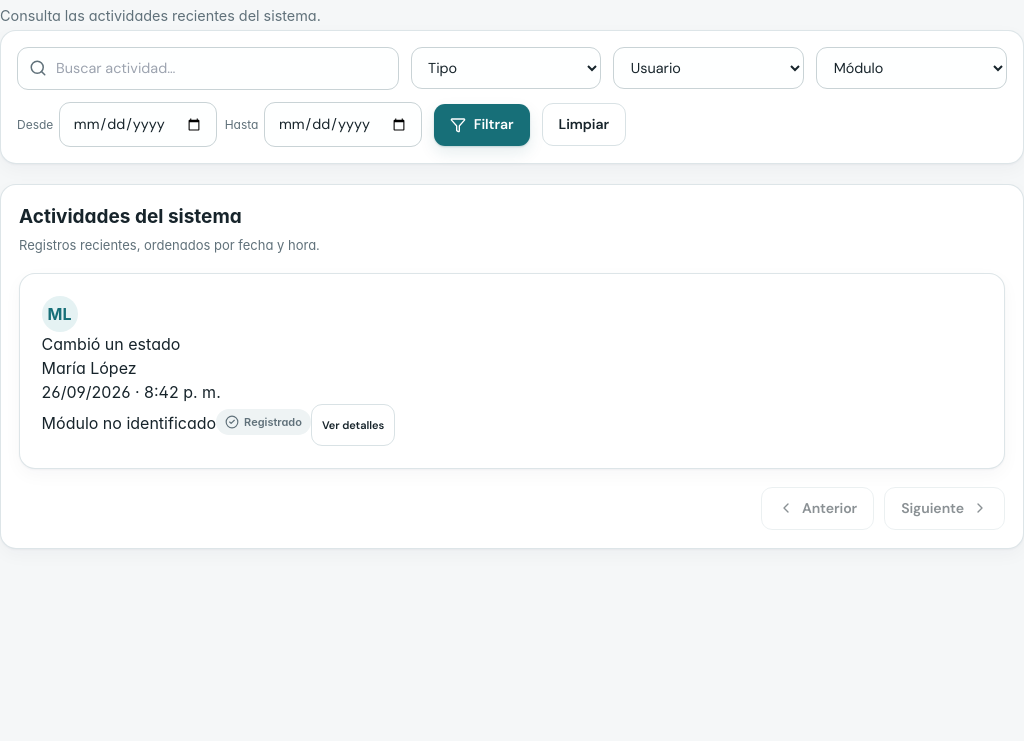
Test: estado genérico con resultado desconocido conserva título, módulo, categoría y resultado en móvil y detalle
Expected: the text "Módulo no identificado" is shown, [42,413,216,433]
Expected: the text "Registrado" is shown, [216,408,311,435]
Click the button "Ver detalles" at [353, 425], box [311,404,395,446]
(page scrolled)
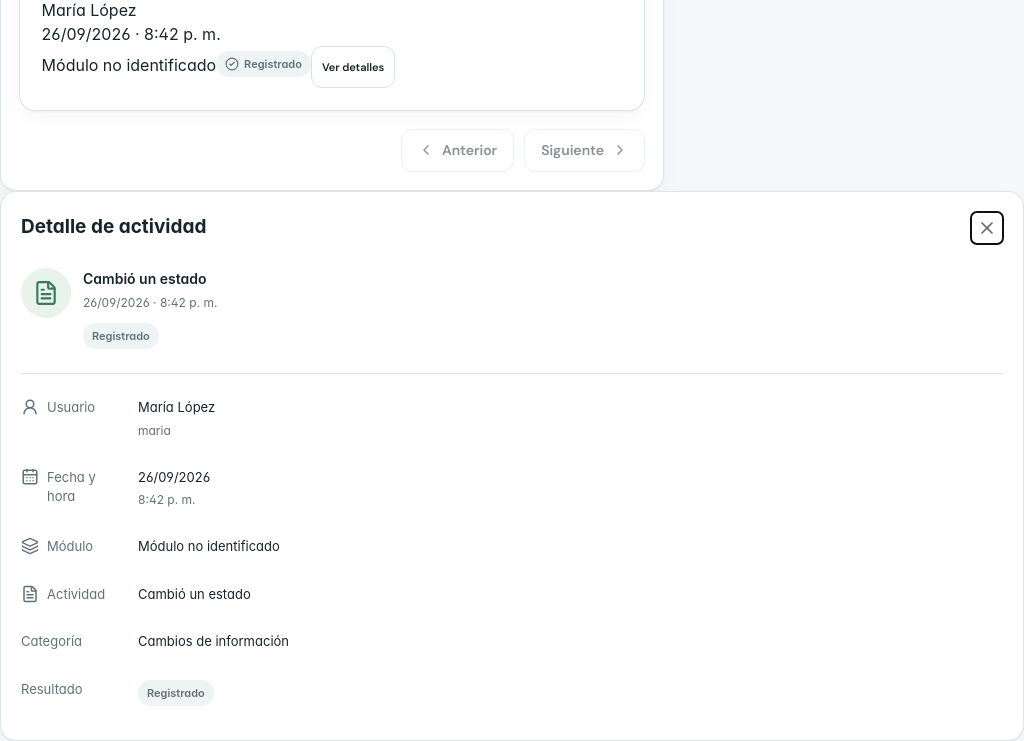
Expected: the heading "Cambió un estado" below "Detalle de actividad" is shown, [83,268,217,288]
Expected: the text "Módulo no identificado" below "maria" is shown, [138,538,280,554]
Expected: the text "Cambios de información" is shown, [138,633,289,649]
